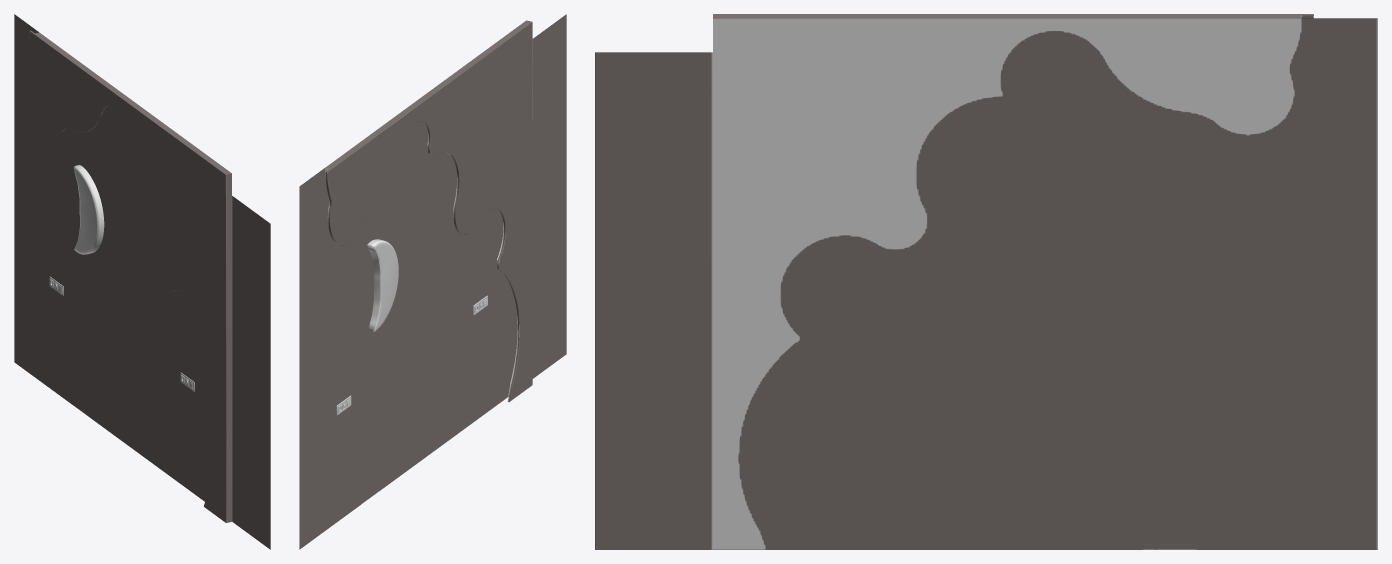
File: VidOneVarTwo.gltf
3 views of the same model, side by side, from view 1: azimuth 30°, elevation 25°; view 2: azimuth 150°, elevation 25°; view 3: azimuth 270°, elevation 25° (orthographic). The views are drawn at different scales.
Visible parts, largest first — view 1: VidOneVarTwo; view 2: VidOneVarTwo; view 3: VidOneVarTwo.
Part boxes in pixels (x1,y1,x2,y2): VidOneVarTwo: (14, 14, 270, 549); VidOneVarTwo: (299, 14, 566, 549); VidOneVarTwo: (595, 14, 1377, 549).
Bounding box in the file's own units: 0.0579 × 2.99 × 3.99.
Materials: 1 (1 with a texture image).
